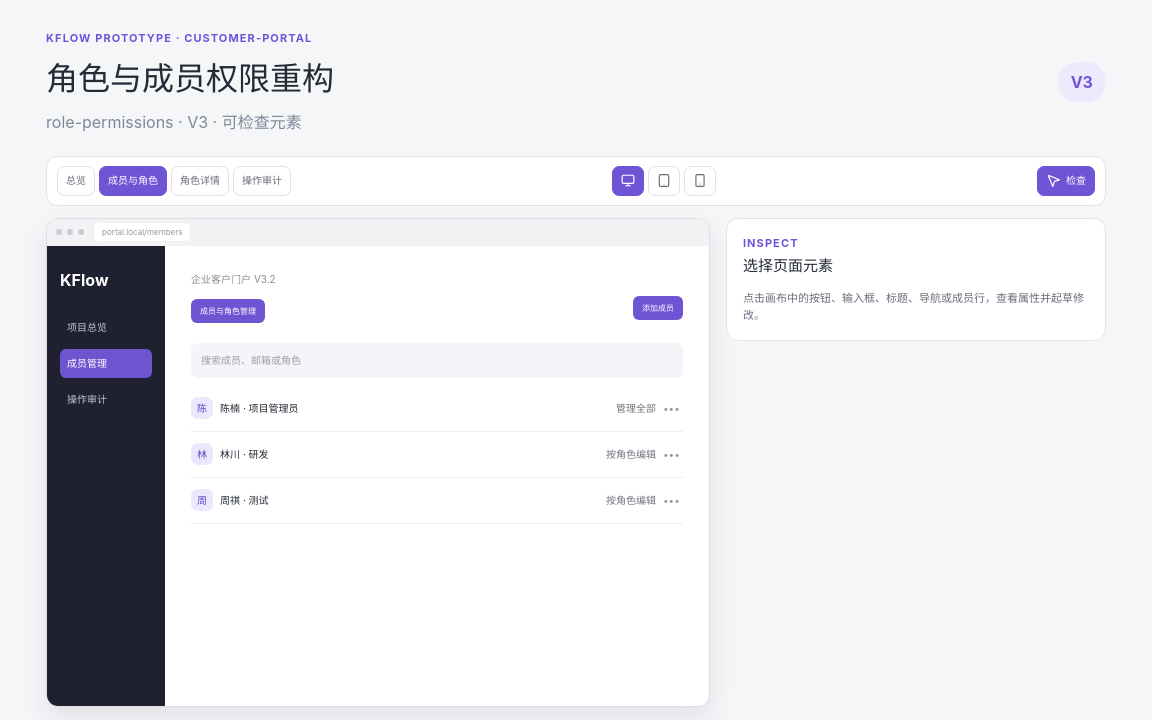
uses trusted project capability while readonly remains an extra restriction
Later steps or results of the test are not shown.
Click the button with aria-label "选择添加成员按钮": (658,308) [633,296,683,320]
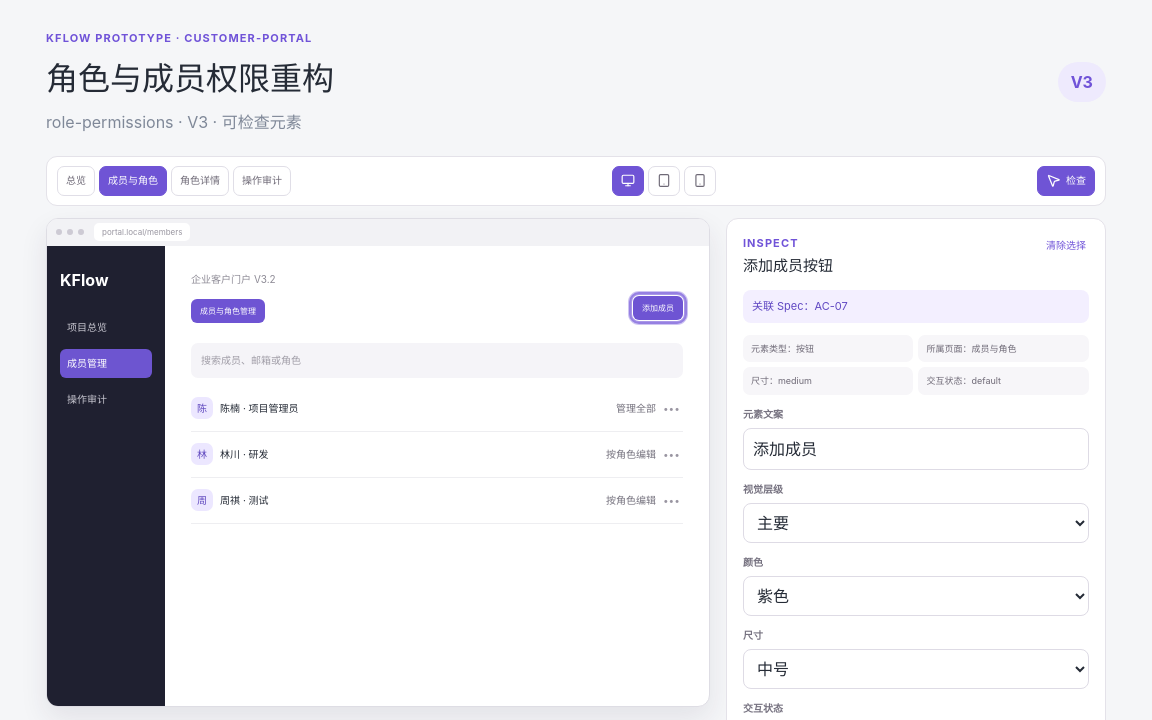
Now the field labelled "元素文案" is enabled, box [743,428,1089,470]
